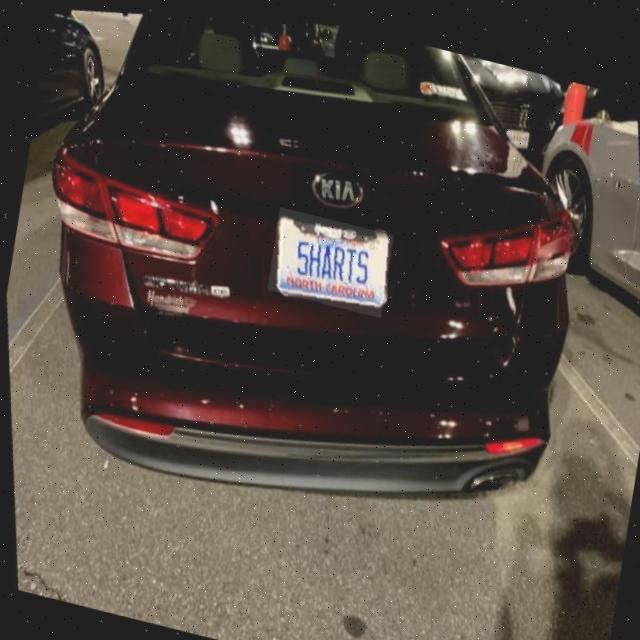LicensePlate: (274, 210, 389, 302)
